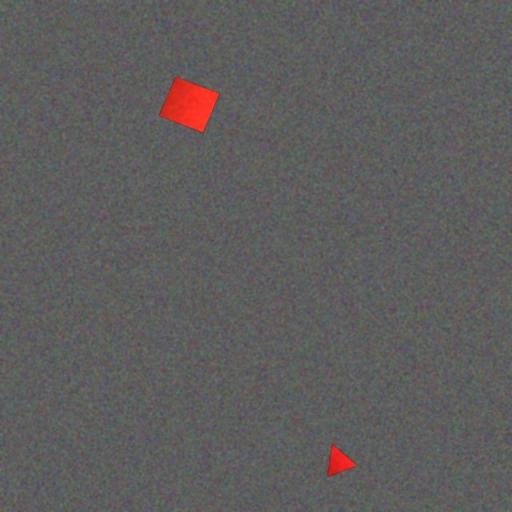RED_SQUARE: (158, 76, 221, 134)
